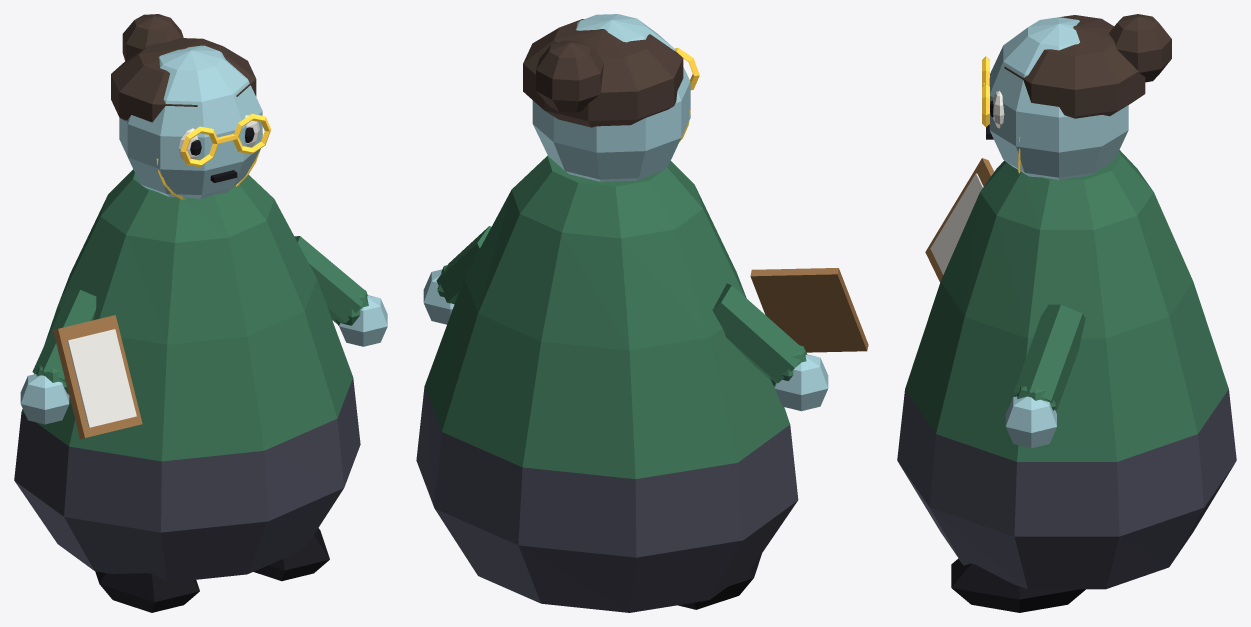
Rendered from npc_portera.glb.
3 views of the same model, side by side, from view 1: azimuth 30°, elevation 25°; view 2: azimuth 150°, elevation 25°; view 3: azimuth 270°, elevation 25° (orthographic). The views are drawn at different scales.
Visible parts, largest first — view 1: body_door_cardigan, body_door_skirt, head_skin_celeste, head_hair_dark, arms_door_cardigan, props_white, legs_black, arms_skin_celeste, props_clipboard, face_gold, face_black; view 2: body_door_cardigan, body_door_skirt, head_hair_dark, head_skin_celeste, props_clipboard, arms_door_cardigan, arms_skin_celeste, legs_black; view 3: body_door_cardigan, body_door_skirt, head_skin_celeste, head_hair_dark, arms_door_cardigan, legs_black, arms_skin_celeste, props_white, props_clipboard, face_gold.
Part boxes in pixels (box(x1,y1,x2,y2)): body_door_cardigan: box(21, 169, 353, 461); body_door_skirt: box(14, 378, 360, 581); head_skin_celeste: box(119, 45, 262, 198); head_hair_dark: box(111, 14, 256, 122); arms_door_cardigan: box(32, 236, 368, 394); props_white: box(67, 329, 136, 427); legs_black: box(95, 528, 329, 612); arms_skin_celeste: box(20, 295, 387, 424); props_clipboard: box(53, 315, 142, 439); face_gold: box(156, 114, 271, 199); face_black: box(190, 127, 254, 182); body_door_cardigan: box(424, 155, 790, 479); body_door_skirt: box(416, 386, 798, 612); head_hair_dark: box(523, 19, 683, 127); head_skin_celeste: box(532, 14, 690, 181); props_clipboard: box(750, 268, 868, 352); arms_door_cardigan: box(436, 226, 807, 385); arms_skin_celeste: box(423, 269, 828, 411); legs_black: box(678, 554, 761, 609); body_door_cardigan: box(905, 150, 1228, 461); body_door_skirt: box(897, 389, 1236, 589); head_skin_celeste: box(989, 17, 1128, 179); head_hair_dark: box(1004, 14, 1171, 118); arms_door_cardigan: box(1013, 304, 1085, 410); legs_black: box(951, 558, 1085, 612); arms_skin_celeste: box(1005, 396, 1056, 448); props_white: box(930, 173, 983, 274); props_clipboard: box(925, 158, 994, 282); face_gold: box(982, 56, 1020, 173).
Bounding box in the file's own units: 1.13 × 1.55 × 0.86.
